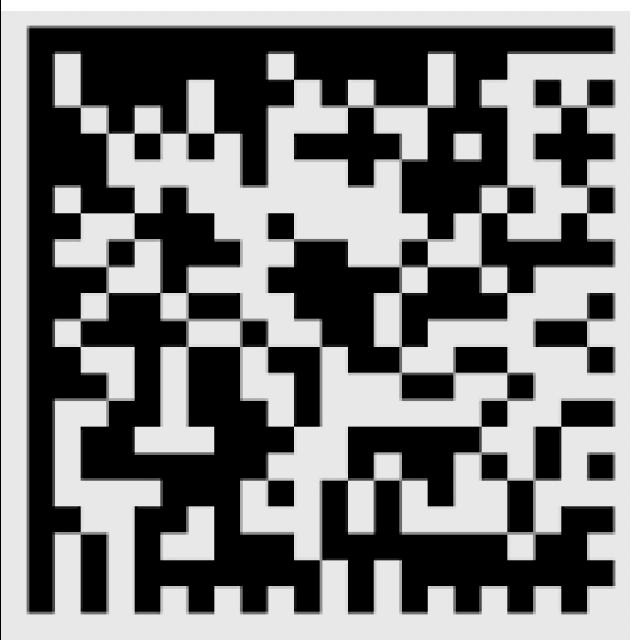DataMatrix: (0, 11, 629, 640)
